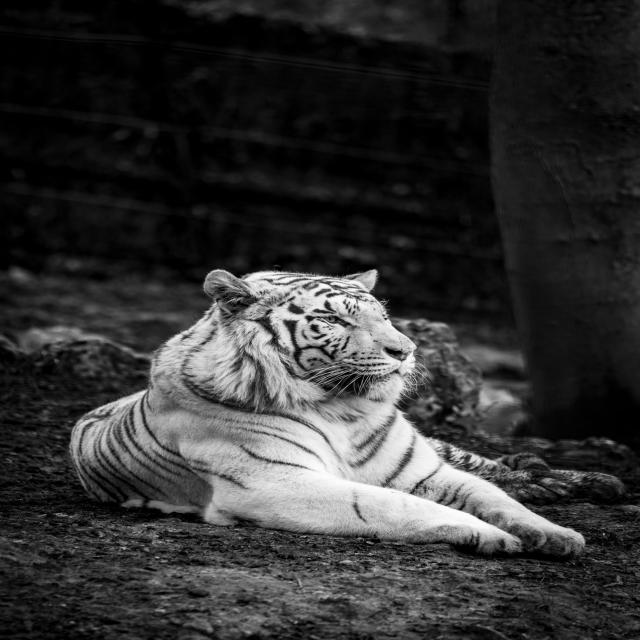Tiger: (68, 268, 586, 556)
